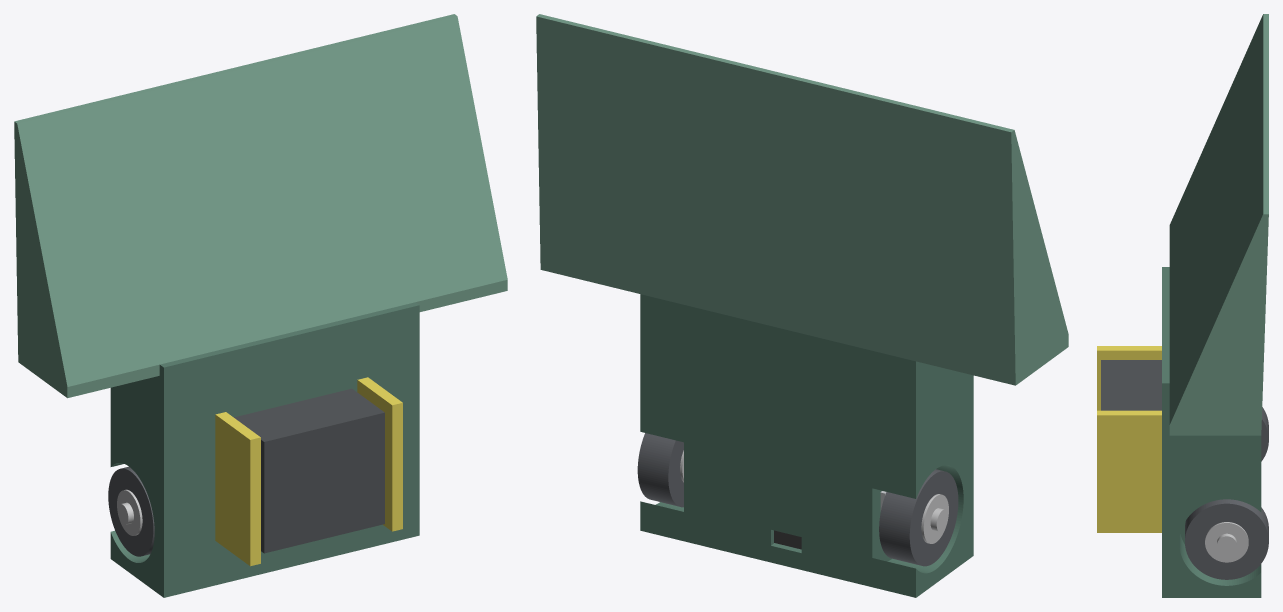
The model's file is unorthodox.glb.
The picture shows the model from 3 angles, left to right: view 1: azimuth 30°, elevation 25°; view 2: azimuth 150°, elevation 25°; view 3: azimuth 270°, elevation 25°; orthographic projection. The views are drawn at different scales.
Parts seen in each view (by area): view 1: scoop, chassis, servo, servo_plate_r, servo_plate_l, wheel_r0, dt_hub_wheel_r0; view 2: scoop, chassis, wheel_r0, wheel_l0, dt_hub_wheel_r0; view 3: scoop, chassis, servo_plate_l, wheel_l0, servo, dt_hub_wheel_l0, servo_plate_r, wheel_r0.
Boxes of the visible parts, x1=… form: scoop: x1=14, y1=14, x2=507, y2=398; chassis: x1=110, y1=302, x2=419, y2=597; servo: x1=234, y1=388, x2=384, y2=553; servo_plate_r: x1=215, y1=412, x2=260, y2=566; servo_plate_l: x1=357, y1=377, x2=402, y2=531; wheel_r0: x1=108, y1=466, x2=154, y2=556; dt_hub_wheel_r0: x1=117, y1=489, x2=142, y2=535; scoop: x1=536, y1=14, x2=1068, y2=385; chassis: x1=640, y1=294, x2=973, y2=597; wheel_r0: x1=879, y1=469, x2=958, y2=566; wheel_l0: x1=637, y1=433, x2=683, y2=507; dt_hub_wheel_r0: x1=921, y1=494, x2=948, y2=543; scoop: x1=1169, y1=14, x2=1268, y2=435; chassis: x1=1162, y1=267, x2=1261, y2=597; servo_plate_l: x1=1097, y1=410, x2=1161, y2=532; wheel_l0: x1=1185, y1=499, x2=1268, y2=579; servo: x1=1101, y1=360, x2=1161, y2=410; dt_hub_wheel_l0: x1=1205, y1=522, x2=1248, y2=562; servo_plate_r: x1=1097, y1=346, x2=1161, y2=410; wheel_r0: x1=1261, y1=407, x2=1268, y2=461.
Bounding box in the file's own units: 124 × 123 × 45.
